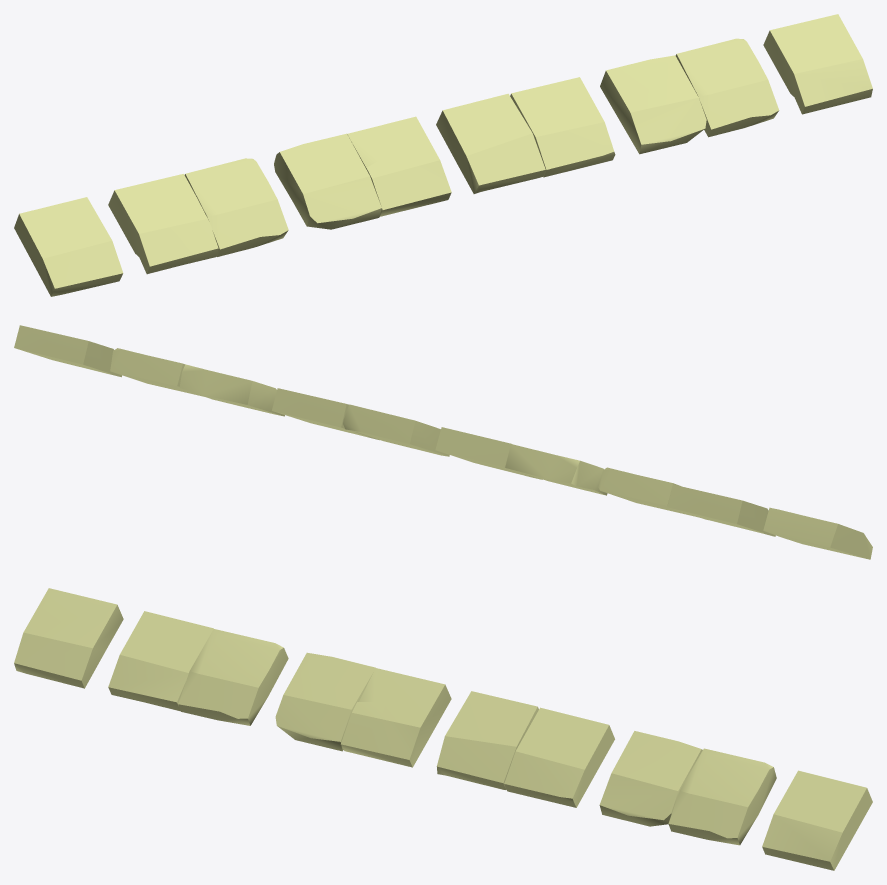
The model's file is stone_element_19_battlements_line_x5.fbx.
The picture shows the model from 3 angles, top to bottom: view 1: azimuth 30°, elevation 25°; view 2: azimuth 150°, elevation 25°; view 3: azimuth 330°, elevation 25°; orthographic projection.
Parts seen in each view (by area): view 1: stone_element_19_battlements_line_x5_LOD1; view 2: stone_element_19_battlements_line_x5_LOD1; view 3: stone_element_19_battlements_line_x5_LOD1.
Boxes of the visible parts, left/top/right/bottom form: stone_element_19_battlements_line_x5_LOD1: left=14, top=14, right=872, bottom=296; stone_element_19_battlements_line_x5_LOD1: left=14, top=325, right=872, bottom=559; stone_element_19_battlements_line_x5_LOD1: left=14, top=588, right=872, bottom=870.
Size of the model in its own units: 511 by 36.37 by 45.78.
